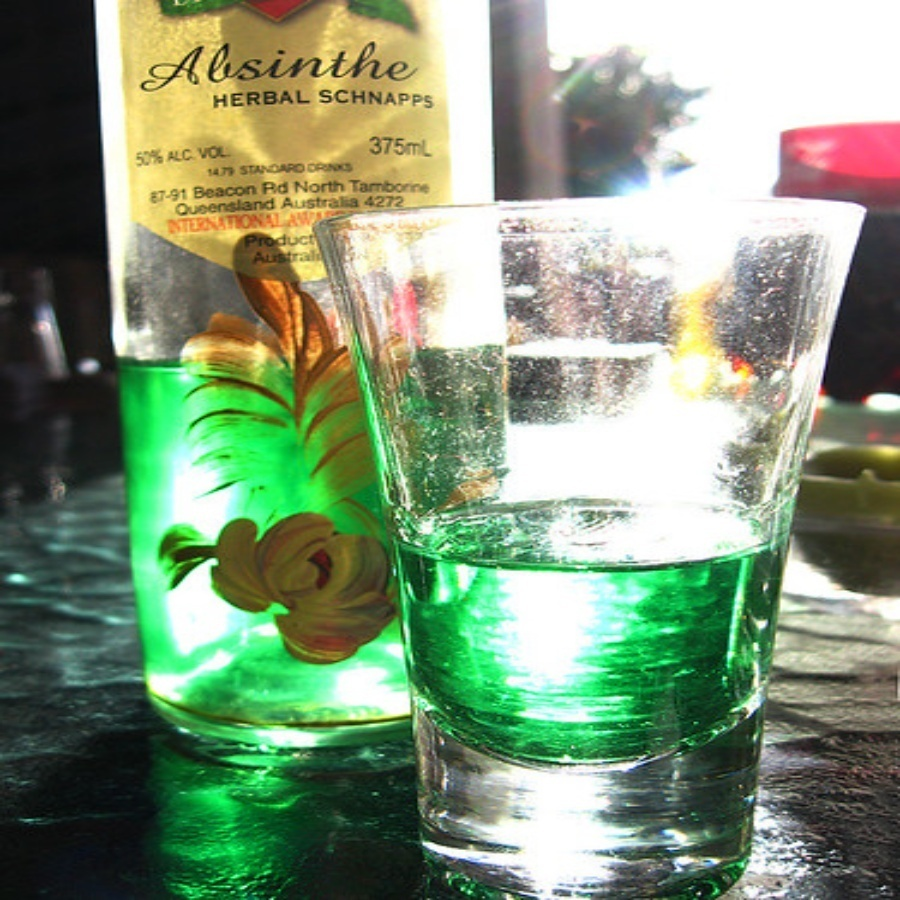whiskey: (379, 195, 864, 776)
